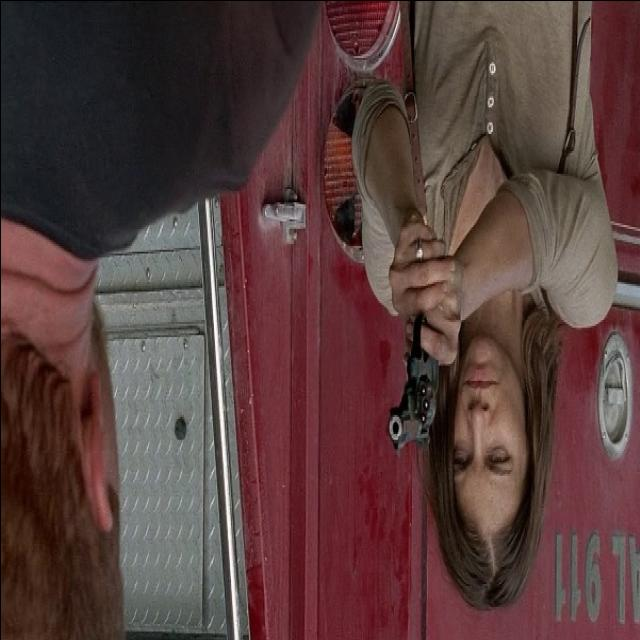weapons: (370, 255, 453, 468)
